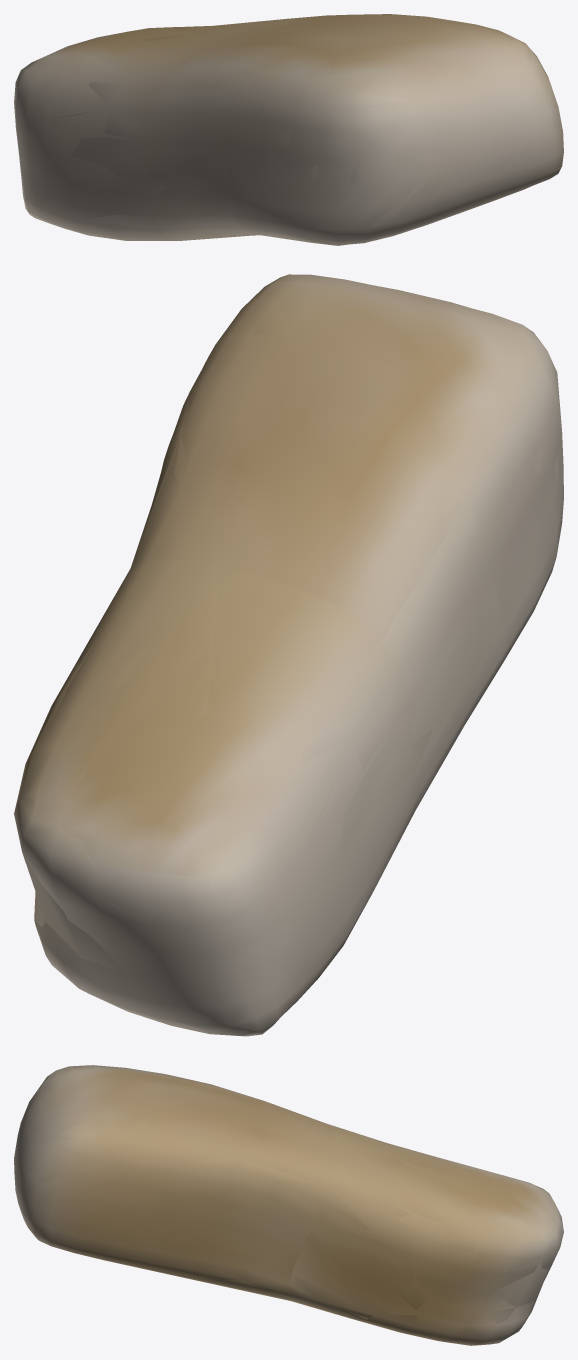
The model's file is L tarsi centrale.fbx.
The picture shows the model from 3 angles, top to bottom: view 1: azimuth 30°, elevation 25°; view 2: azimuth 150°, elevation 25°; view 3: azimuth 270°, elevation 25°; orthographic projection. The views are drawn at different scales.
Visible parts, largest first — view 1: L tarsi centrale, L tarsi centrale low; view 2: L tarsi centrale, L tarsi centrale low; view 3: L tarsi centrale, L tarsi centrale low.
Boxes of the visible parts, x1,y1,x2,y2 form: L tarsi centrale: [14, 14, 563, 245]; L tarsi centrale low: [14, 17, 561, 245]; L tarsi centrale: [14, 274, 563, 1036]; L tarsi centrale low: [15, 274, 557, 1035]; L tarsi centrale: [14, 1065, 563, 1345]; L tarsi centrale low: [18, 1065, 562, 1339].
Size of the model in its own units: 1.26 by 1.34 by 2.55.
